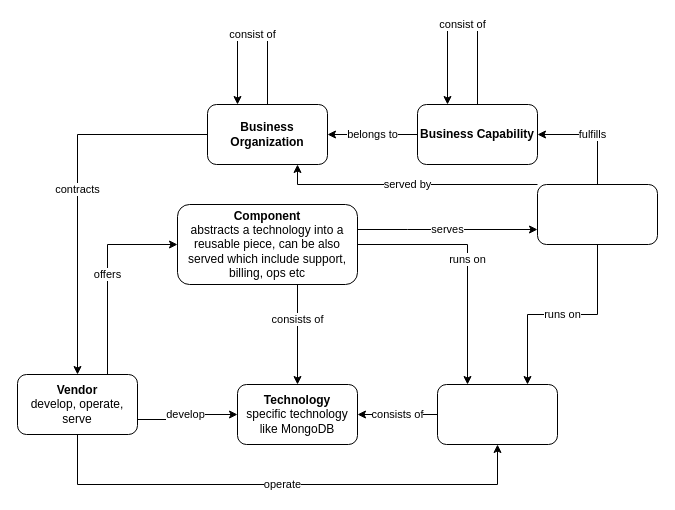
The diagram is 675 pixels wide and 510 high, and some of its shapes have lost their labels. Here are the shapes that lost their labels. From the top down, the centre of each, then its label:
At (x=597, y=214): "Product/Application Combining components and services to a usable".
At (x=497, y=414): "Platform Cloud, VM, Metal".
